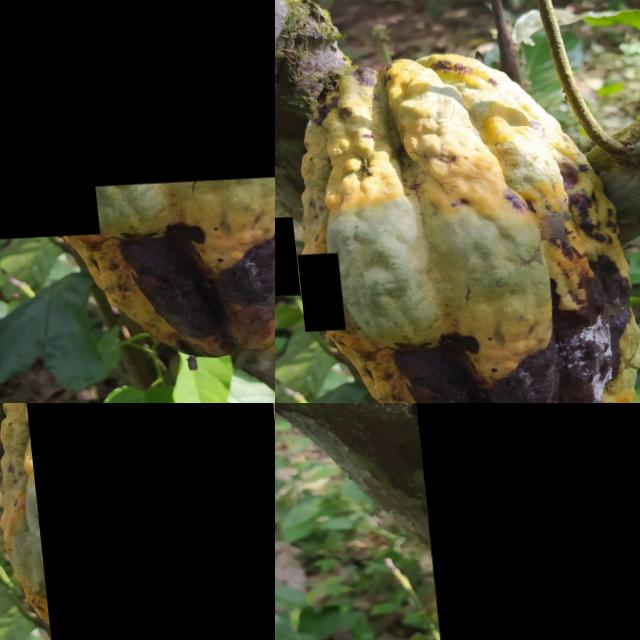Monilia: (411, 403, 640, 640)
Sana: (20, 403, 275, 640), (63, 0, 275, 188), (0, 0, 91, 244), (290, 255, 337, 334), (499, 167, 544, 219), (275, 218, 292, 298), (410, 324, 425, 343), (405, 314, 421, 326)
